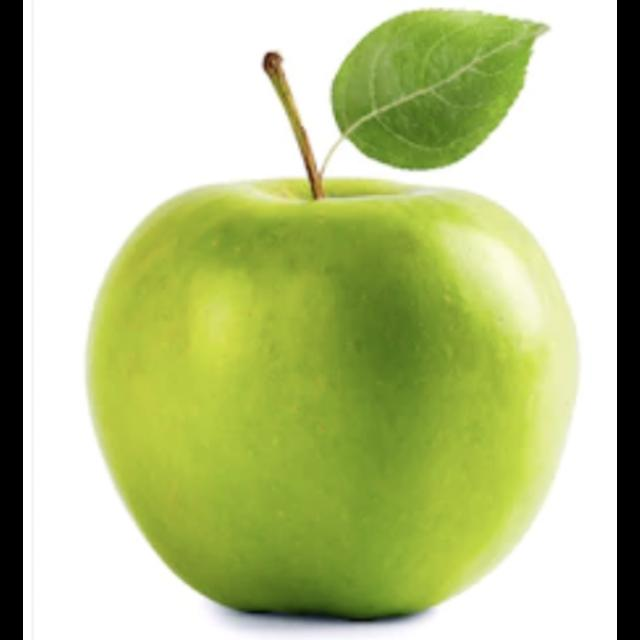Apel Segar: (83, 177, 583, 624)
